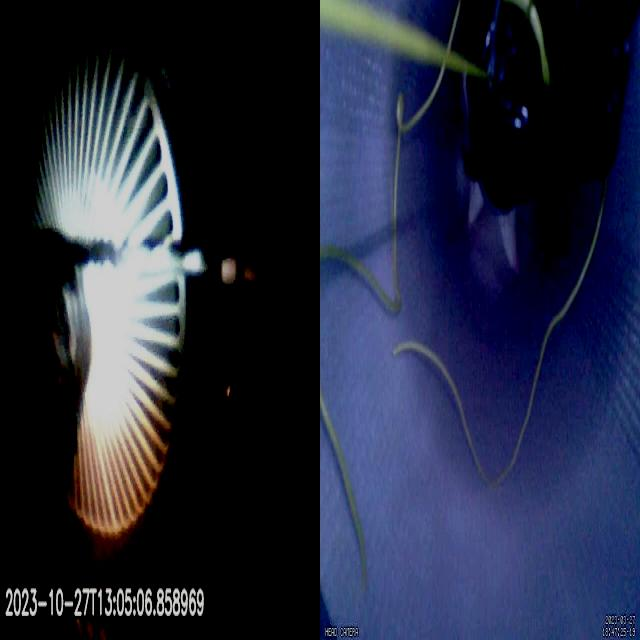white-dots: (220, 254, 280, 294)
